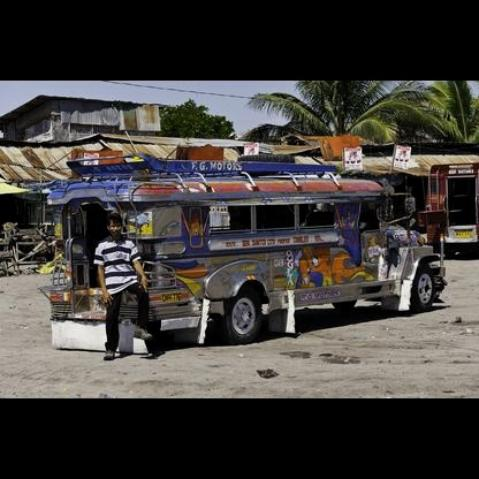jeepney: (38, 134, 455, 359)
